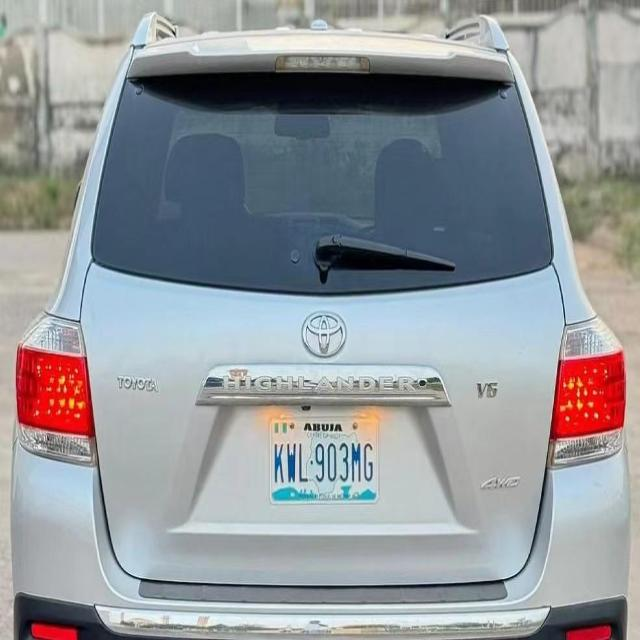Nigerian License Plate - vdataset benjamin-daria: (268, 413, 380, 506)
